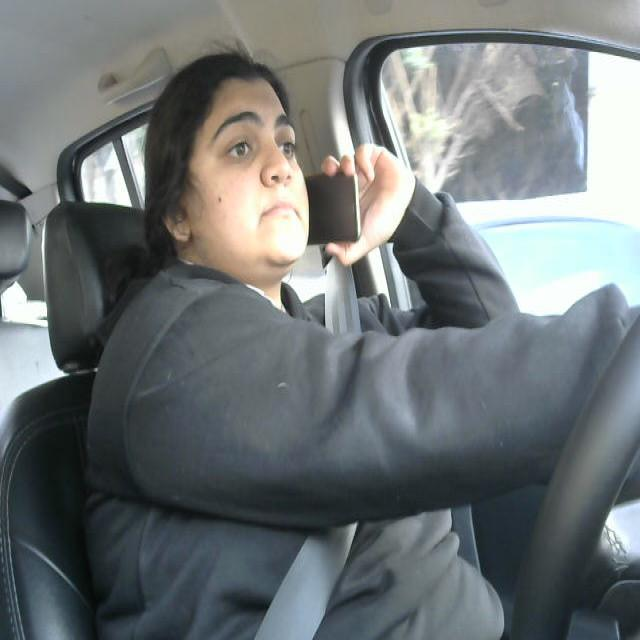mobile use: (303, 166, 365, 256)
